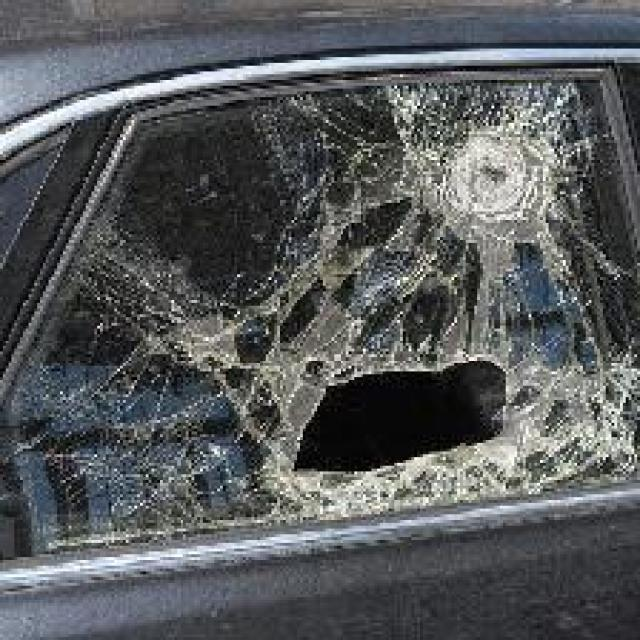damaged: (17, 80, 637, 546)
